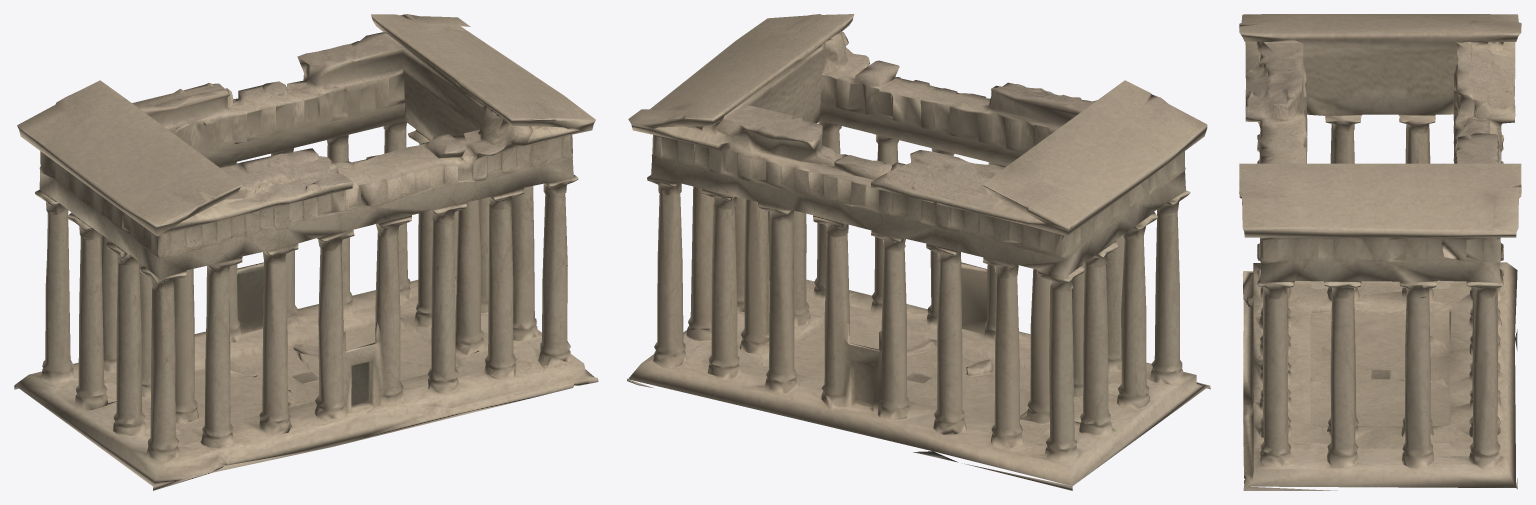
Rendered from prp_lm_godhall_fragment.glb.
The picture shows the model from 3 angles, left to right: view 1: azimuth 30°, elevation 25°; view 2: azimuth 150°, elevation 25°; view 3: azimuth 270°, elevation 25°; orthographic projection.
Visible parts, largest first — view 1: prp_lm_godhall_fragment; view 2: prp_lm_godhall_fragment; view 3: prp_lm_godhall_fragment.
Boxes of the visible parts, box(x1,y1,x2,y2) form: prp_lm_godhall_fragment: box(14, 14, 598, 490); prp_lm_godhall_fragment: box(627, 14, 1210, 490); prp_lm_godhall_fragment: box(1239, 14, 1521, 490).
Bounding box in the file's own units: 45.48 × 28 × 25.11.
Materials: 1 (1 with a texture image).
